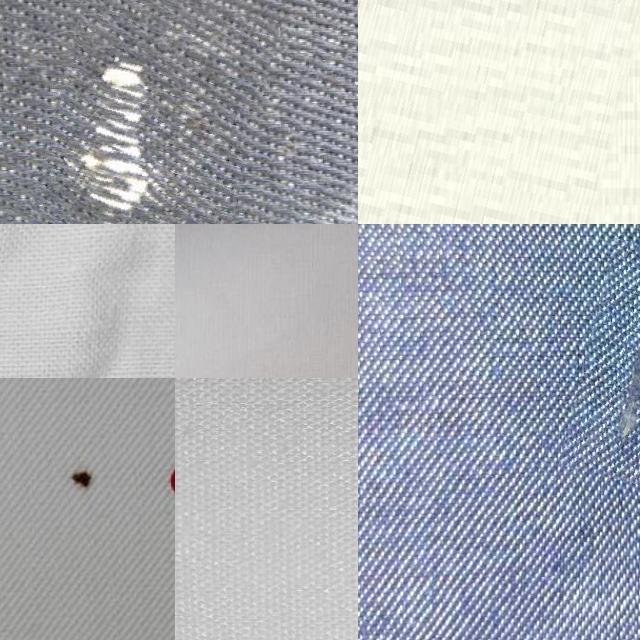Thread_other: (26, 405, 136, 556)
stains: (358, 0, 640, 224), (34, 0, 265, 224), (571, 244, 640, 490)
